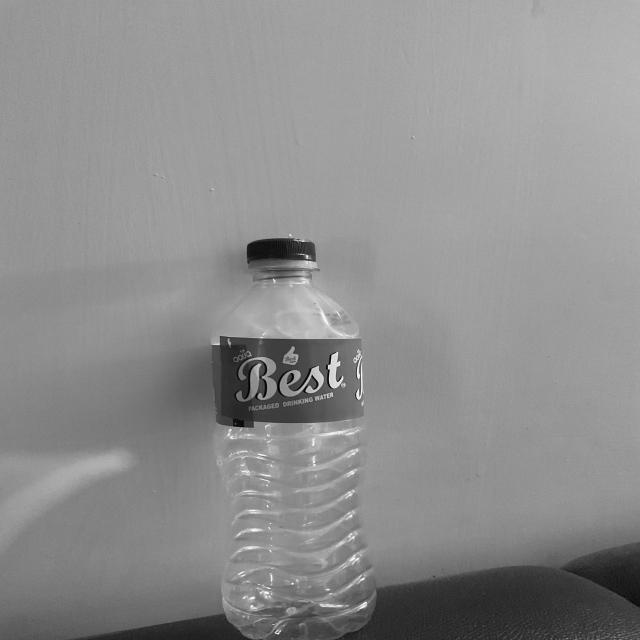Good-cap-Df0S: (241, 235, 323, 272)
